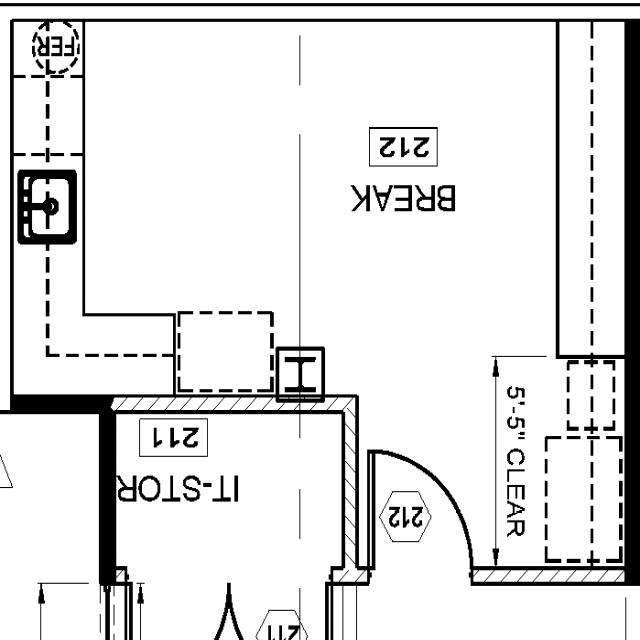Doors: (364, 445, 482, 589)
